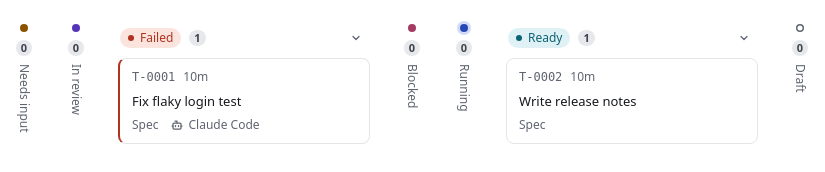
Test: TaskBoard › folds a column with tasks when the user asks
Step 1. Click the button named "Collapse Failed" → (356, 38), box [344, 26, 368, 50]
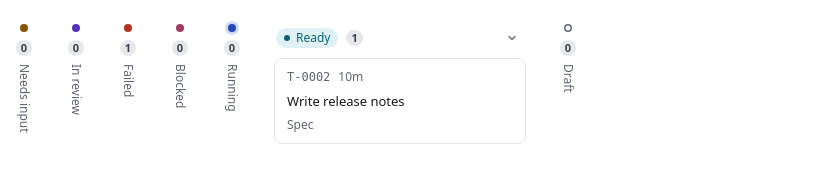
Expected: the button "Fix flaky login test" is gone
Step 2. Click the button with aria-label "Expand Failed, 1 task" → (128, 61), box [108, 12, 148, 109]
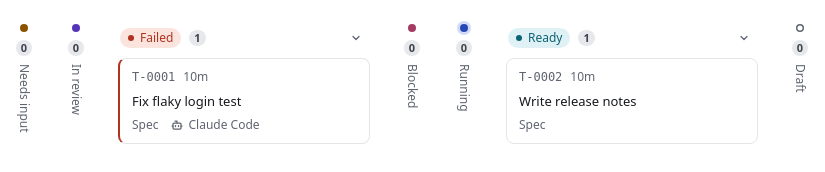
Expected: the button "T-0001 10m Fix flaky login test Spec Claude Code" is shown, [118, 58, 370, 144]
